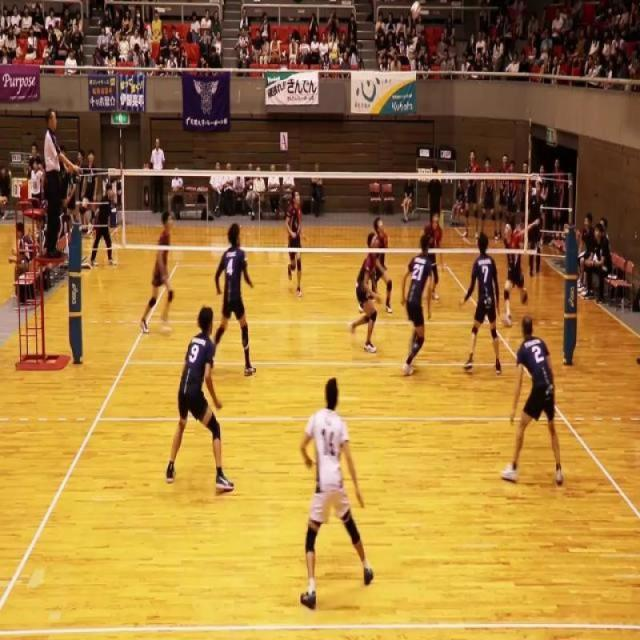volleyball: (410, 1, 421, 22)
